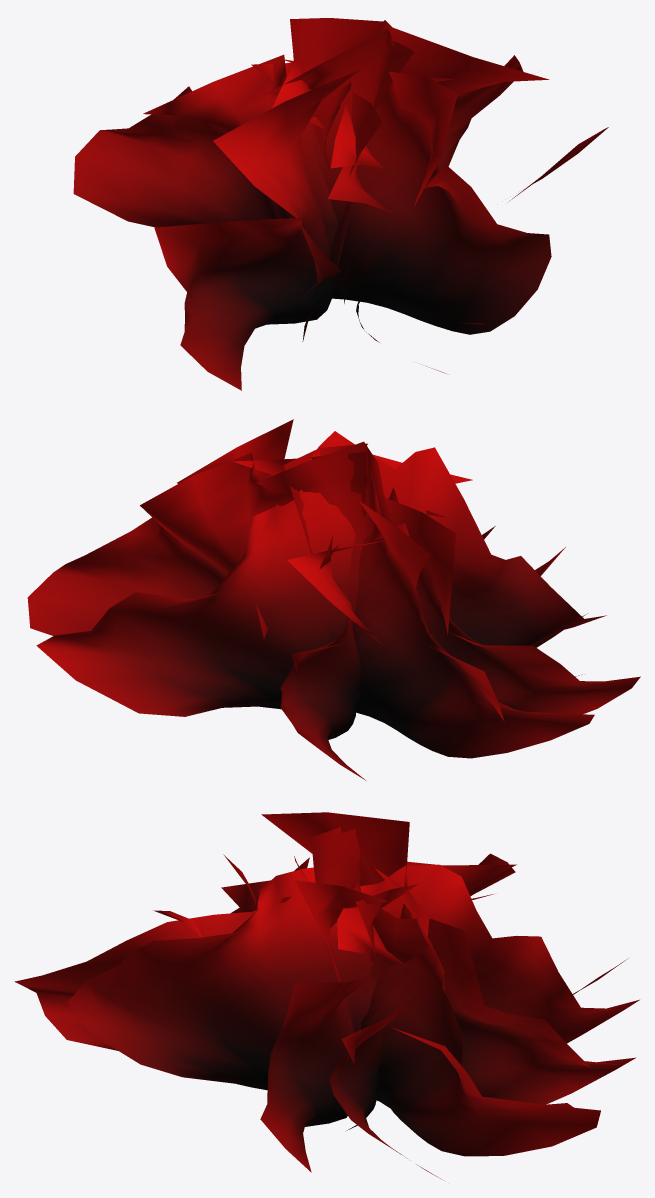
3 views of the same model, one above another, from view 1: azimuth 30°, elevation 25°; view 2: azimuth 150°, elevation 25°; view 3: azimuth 270°, elevation 25° (orthographic). The views are drawn at different scales.
Visible parts, largest first — view 1: sea_lettuce_2; view 2: sea_lettuce_2; view 3: sea_lettuce_2.
Part boxes in pixels (box(x1,y1,x2,y2)): sea_lettuce_2: box(73, 18, 608, 390); sea_lettuce_2: box(27, 419, 640, 780); sea_lettuce_2: box(14, 812, 639, 1179).
Size of the model in its own units: 0.2234 by 0.1026 by 0.2103.
